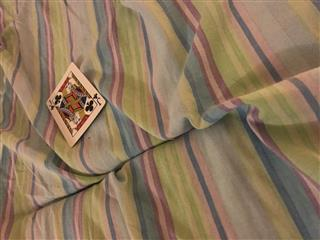JackOfClubs: (45, 62, 106, 147)
